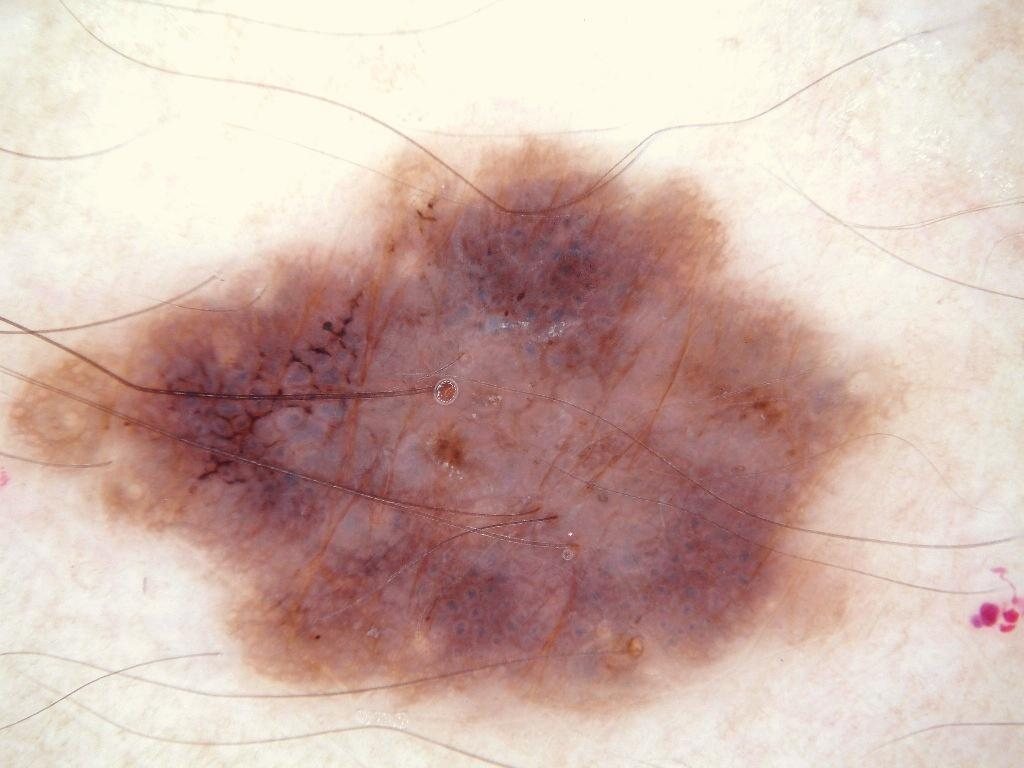Detected Lesion: (14, 132, 891, 723)
